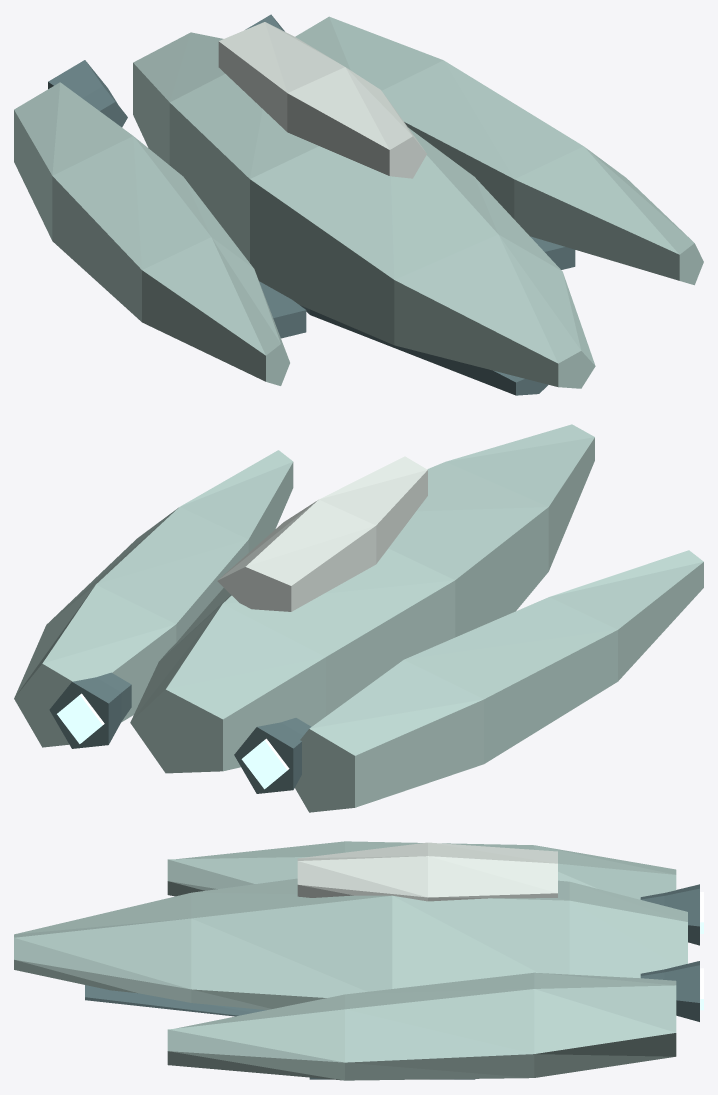
3 views of the same model, one above another, from view 1: azimuth 30°, elevation 25°; view 2: azimuth 150°, elevation 25°; view 3: azimuth 270°, elevation 25° (orthographic). The views are drawn at different scales.
Bounding box in the file's own units: 6.05 × 2.45 × 8.85.
